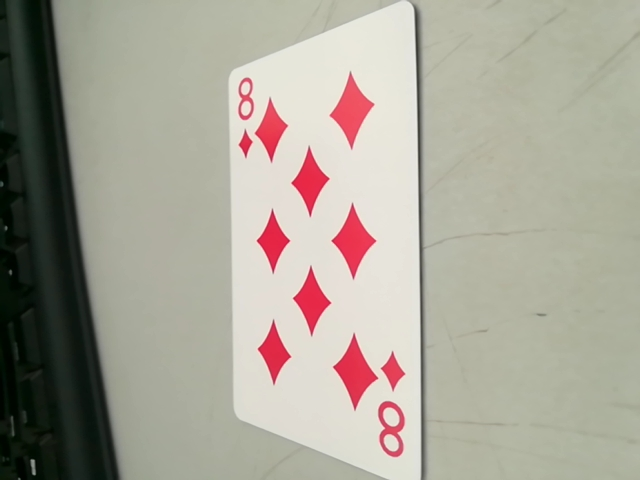fk 8: (377, 350, 421, 466), (228, 64, 264, 155)
